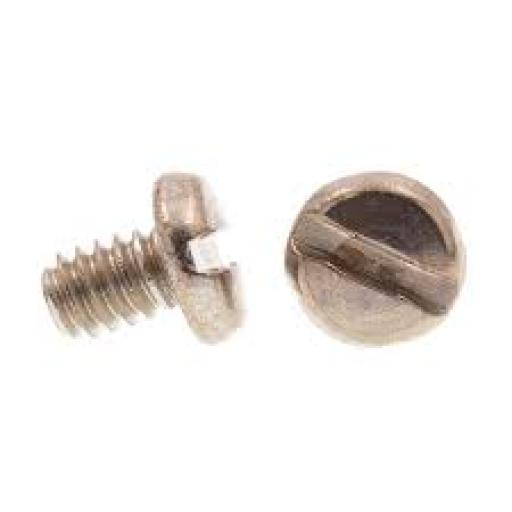Slotted: (282, 168, 460, 352)
